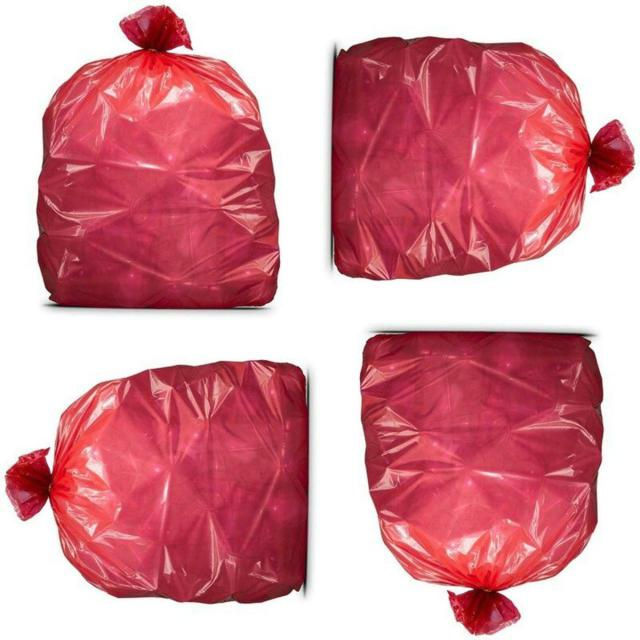Single-layer Plastic: (38, 6, 280, 309), (331, 38, 634, 280), (361, 332, 602, 635), (6, 361, 308, 602)
